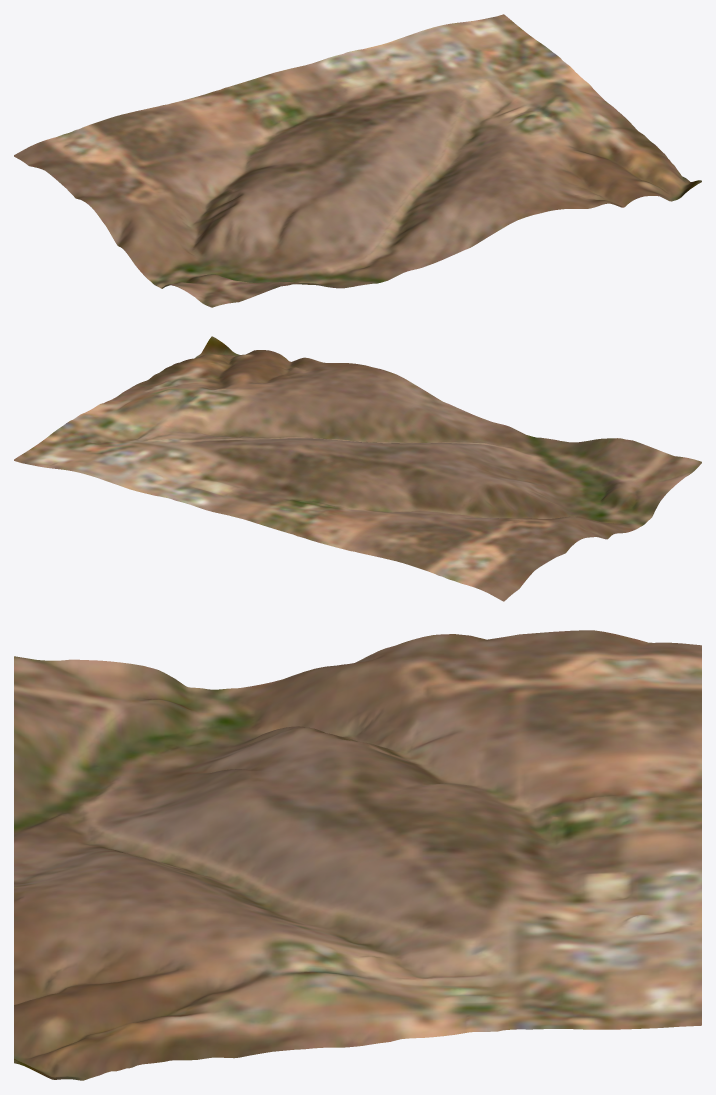
Rendered from terrain_r4_c0.glb.
3 renders of one model, top to bottom at view 1: azimuth 30°, elevation 25°; view 2: azimuth 150°, elevation 25°; view 3: azimuth 270°, elevation 25°, orthographic. The views are drawn at different scales.
Parts seen in each view (by area): view 1: terrain_r4_c0_lod0; view 2: terrain_r4_c0_lod0; view 3: terrain_r4_c0_lod0.
Part boxes in pixels (left/top/right/bottom): terrain_r4_c0_lod0: left=14, top=14, right=701, bottom=307; terrain_r4_c0_lod0: left=14, top=336, right=701, bottom=601; terrain_r4_c0_lod0: left=14, top=630, right=701, bottom=1080.
Bounding box in the file's own units: 1125 × 115 × 787.
1 material, 1 textured.
